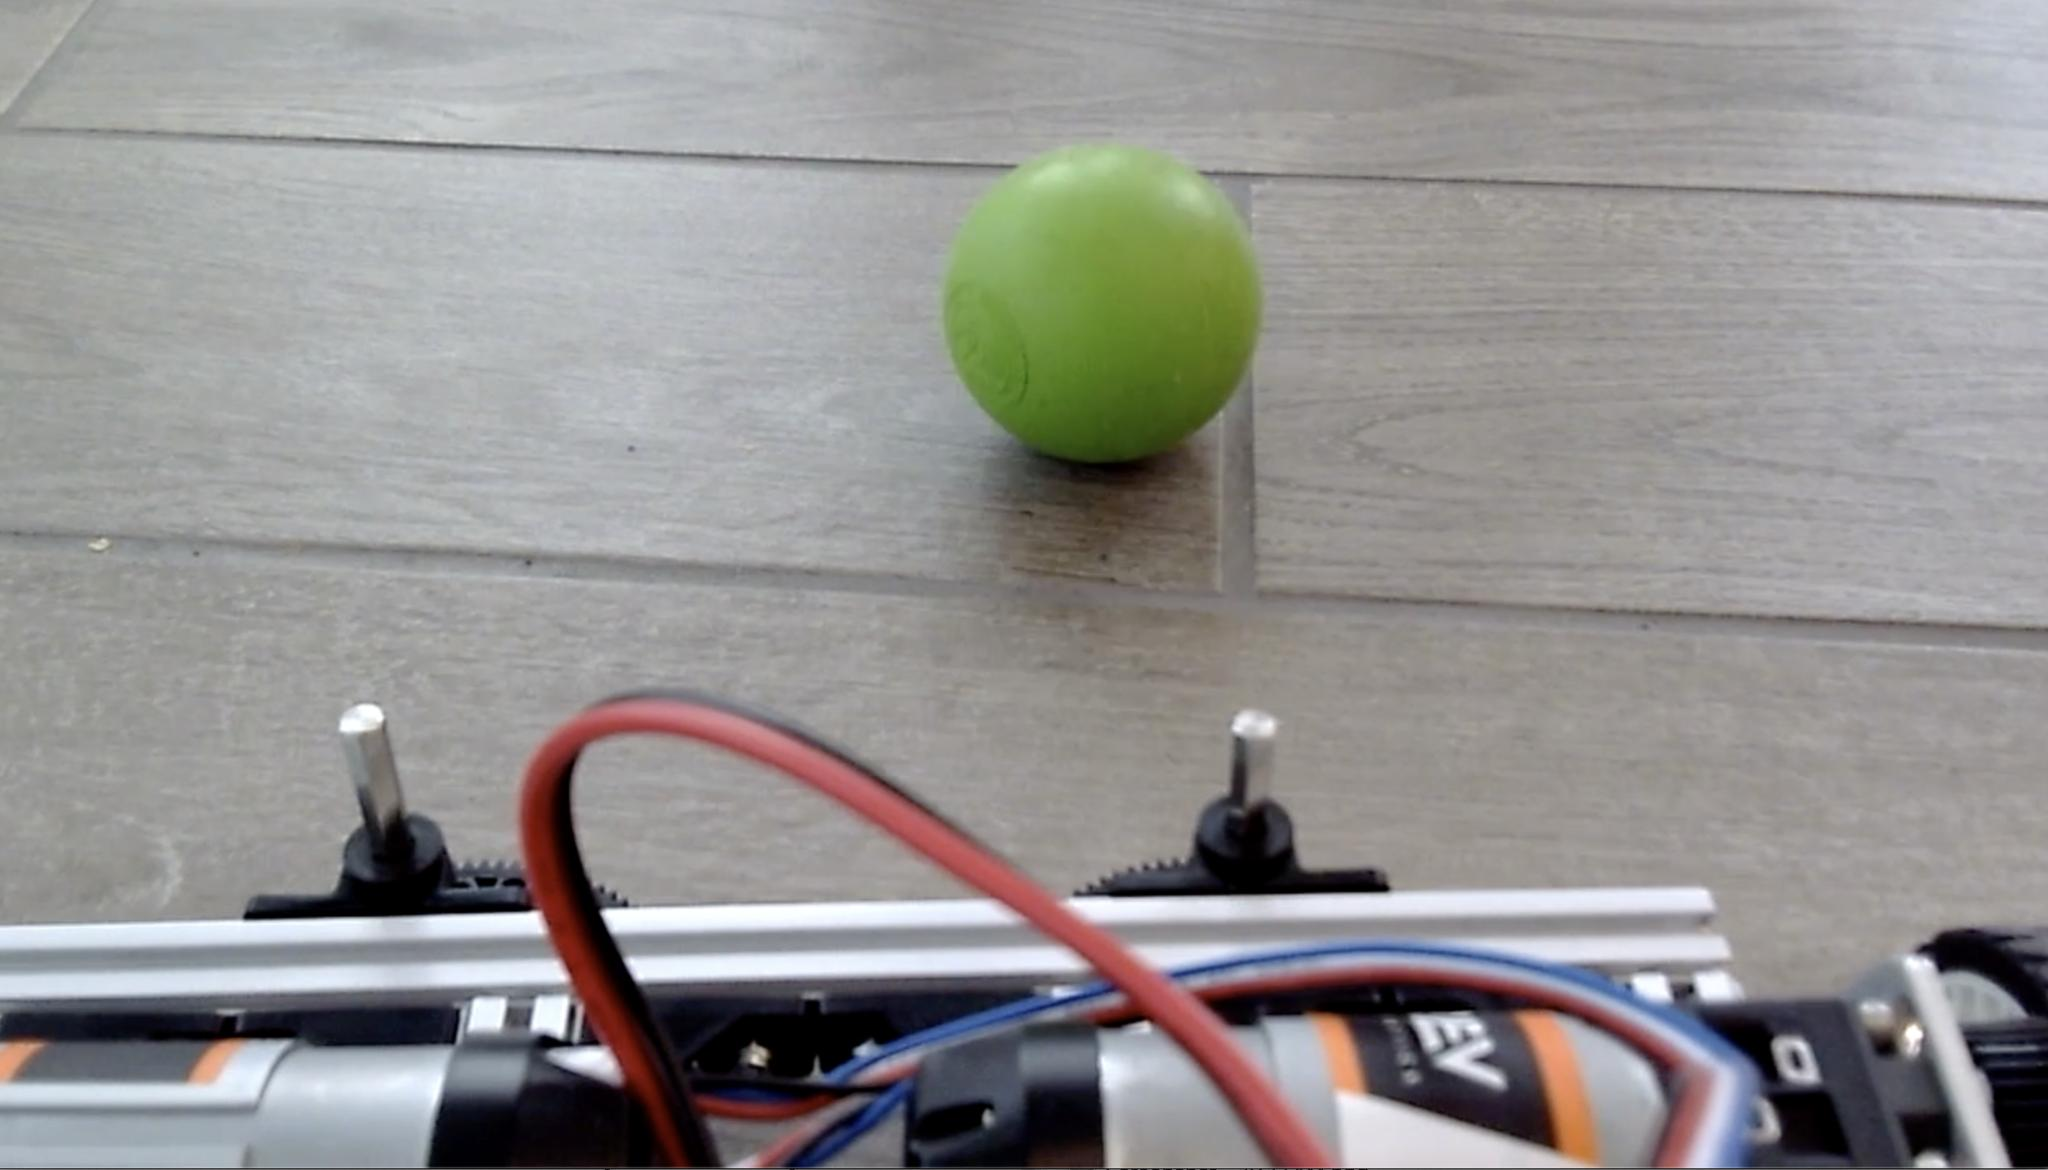Green Ball: (938, 138, 1265, 465)
